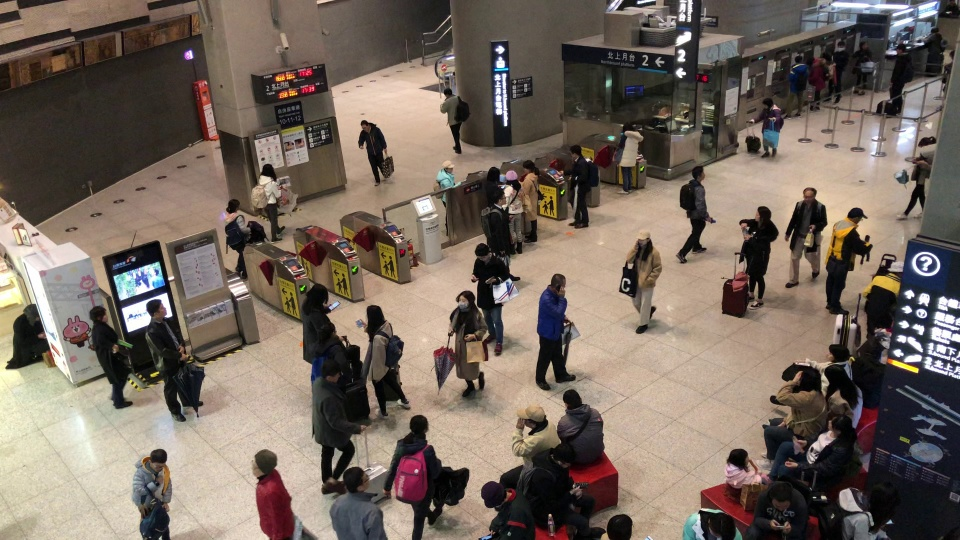person_head: (870, 480, 900, 517), (479, 480, 507, 510), (341, 465, 370, 493), (823, 363, 850, 391), (251, 448, 277, 477), (606, 513, 633, 540), (517, 404, 545, 429), (770, 482, 792, 511), (827, 413, 852, 436), (554, 442, 576, 468), (708, 515, 731, 539), (305, 282, 328, 305), (800, 368, 822, 392), (320, 359, 341, 384), (825, 343, 850, 363), (145, 297, 168, 318), (365, 304, 386, 326), (727, 447, 749, 468), (408, 414, 430, 434), (148, 448, 167, 471), (562, 388, 583, 408), (88, 304, 109, 323), (847, 206, 869, 224), (316, 322, 336, 341), (22, 303, 41, 322), (457, 290, 476, 309), (917, 136, 936, 155), (755, 205, 772, 223), (550, 272, 566, 291), (636, 227, 651, 245), (522, 158, 538, 174), (802, 186, 818, 202), (485, 165, 500, 182), (225, 198, 241, 213), (261, 162, 276, 178), (691, 165, 706, 181), (493, 190, 507, 207), (568, 143, 583, 158), (505, 169, 518, 184), (441, 159, 455, 172), (761, 96, 773, 109), (622, 121, 634, 132), (895, 42, 906, 53), (360, 119, 370, 131), (442, 87, 453, 97), (858, 38, 868, 49), (806, 54, 814, 65), (837, 40, 845, 51), (794, 54, 802, 63), (931, 25, 938, 34)
person_vbox: (516, 442, 606, 540), (754, 368, 828, 472), (311, 359, 367, 496), (766, 413, 863, 492), (382, 415, 443, 540), (144, 297, 203, 423), (761, 363, 864, 433), (355, 304, 411, 420), (249, 448, 317, 539), (823, 207, 874, 315), (498, 402, 560, 489), (769, 343, 853, 407), (817, 479, 901, 540), (534, 272, 576, 391), (783, 185, 828, 290), (88, 305, 133, 409), (447, 290, 488, 399), (327, 466, 388, 539), (738, 205, 779, 311), (743, 480, 816, 539), (625, 227, 663, 334), (556, 388, 605, 470), (130, 448, 172, 540), (480, 189, 521, 281), (674, 165, 711, 264), (300, 283, 344, 365), (478, 480, 537, 539), (559, 143, 599, 229), (896, 136, 936, 221), (4, 303, 50, 371), (250, 163, 286, 244), (219, 197, 252, 282), (309, 322, 352, 387), (432, 159, 464, 238), (611, 121, 644, 196), (748, 96, 784, 158), (439, 86, 471, 154), (357, 119, 388, 187), (681, 506, 743, 539), (503, 169, 526, 256), (888, 42, 914, 114), (518, 159, 540, 244), (782, 53, 809, 121), (822, 40, 849, 104), (724, 448, 766, 487), (806, 54, 829, 113), (851, 38, 872, 96), (484, 165, 505, 206), (922, 25, 947, 54)
